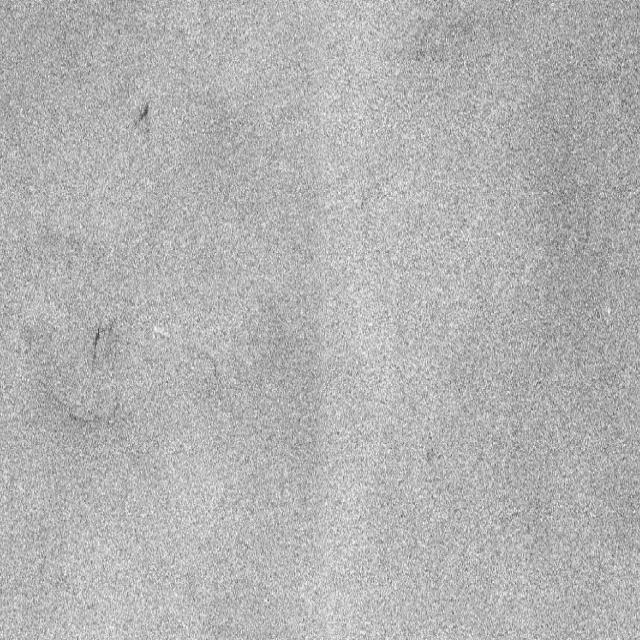oil-spill: (128, 85, 158, 139), (84, 320, 107, 386)
